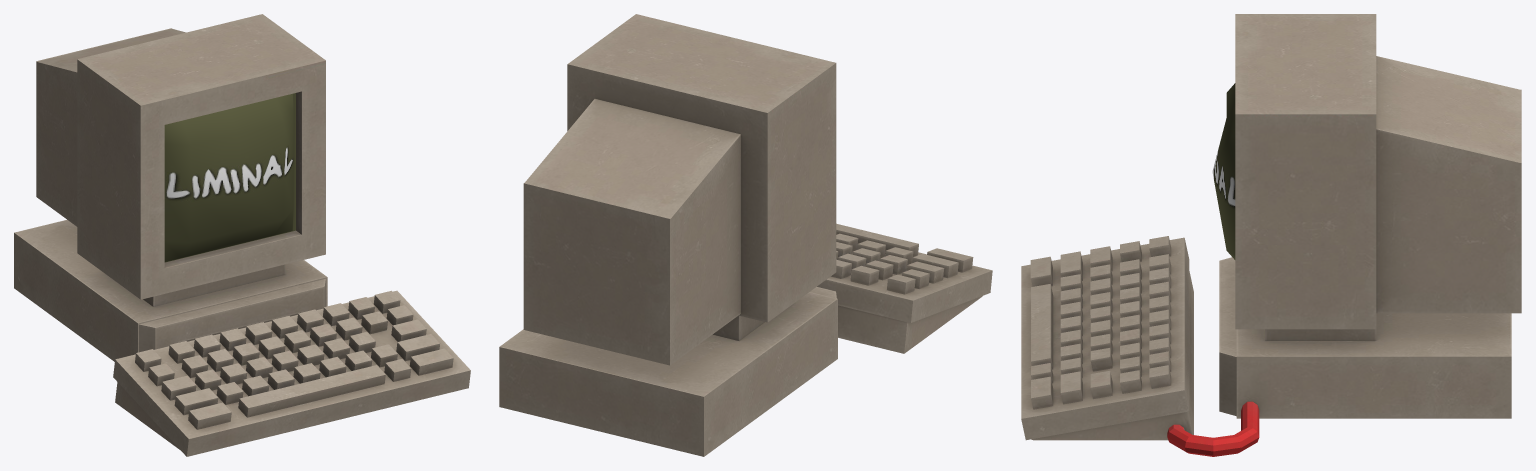
File: Computer_Liminal.glb
3 renders of one model, left to right at view 1: azimuth 30°, elevation 25°; view 2: azimuth 150°, elevation 25°; view 3: azimuth 270°, elevation 25°, orthographic. The views are drawn at different scales.
Parts seen in each view (by area): view 1: Computer_Minimal; view 2: Computer_Minimal; view 3: Computer_Minimal.
Boxes of the visible parts, <box> form: Computer_Minimal: <box>14,14,470,456</box>; Computer_Minimal: <box>499,14,992,456</box>; Computer_Minimal: <box>1021,14,1521,456</box>.
Size of the model in its own units: 12.97 by 10.85 by 16.24.
1 material, 1 textured.
